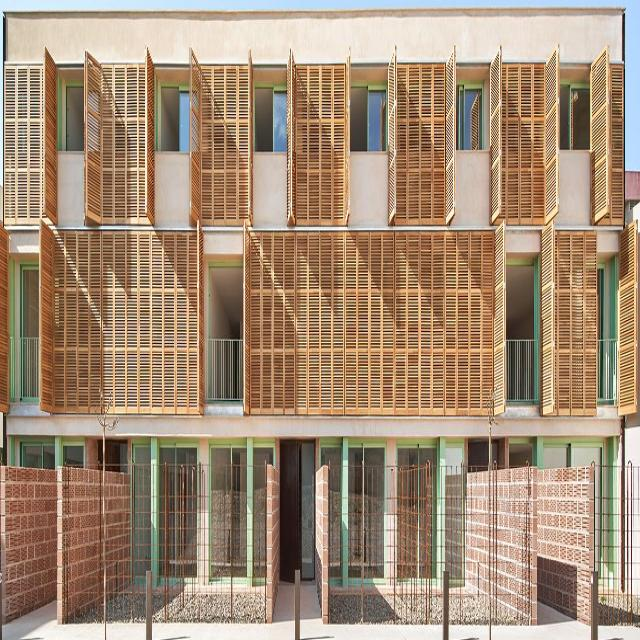Railing: (210, 338, 246, 403), (507, 340, 537, 401), (598, 342, 619, 406), (19, 339, 40, 402)
door: (320, 437, 386, 582), (208, 438, 267, 586), (133, 442, 199, 574), (397, 444, 438, 586)
wall: (3, 14, 625, 621)
windows: (158, 80, 188, 149), (560, 84, 592, 148), (454, 84, 481, 152), (18, 266, 40, 335), (368, 86, 388, 148), (65, 81, 84, 146), (272, 90, 288, 156)
